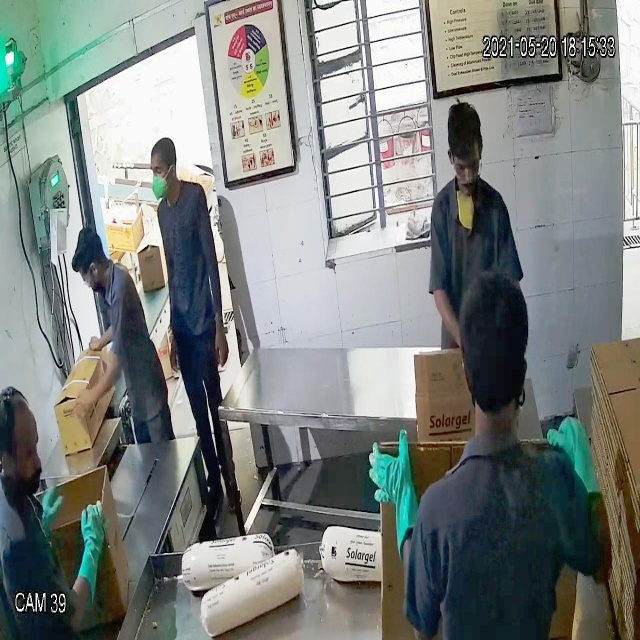Gafas: (448, 148, 483, 187)
